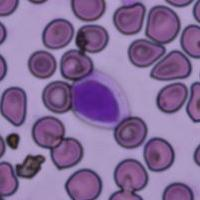L: (69, 69, 132, 129)
